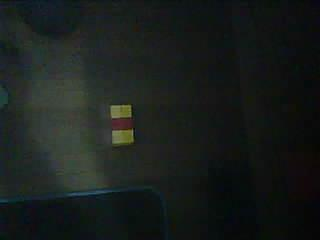lego: (110, 103, 134, 145)
